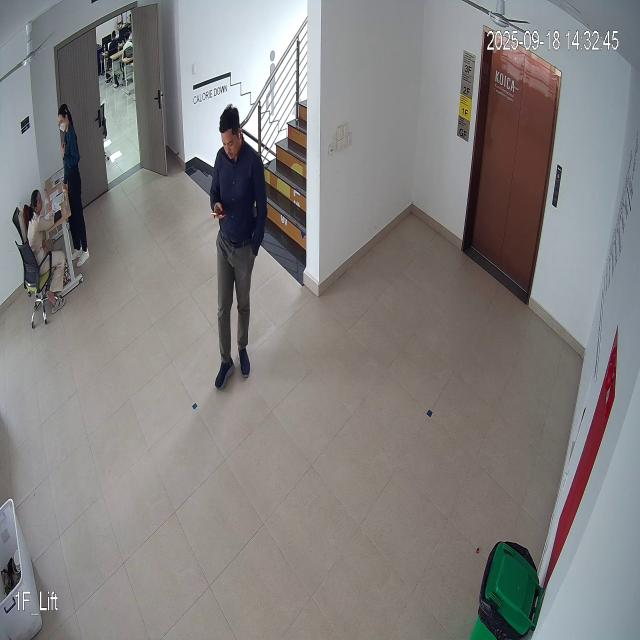face: (216, 100, 243, 167)
